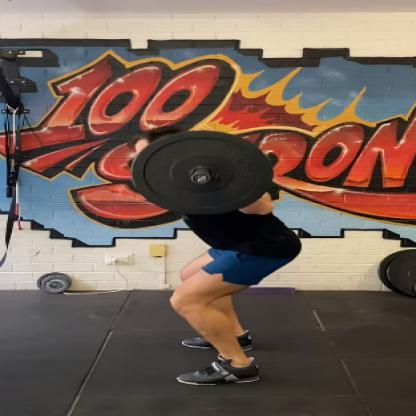Barbell: (188, 169, 216, 188)
